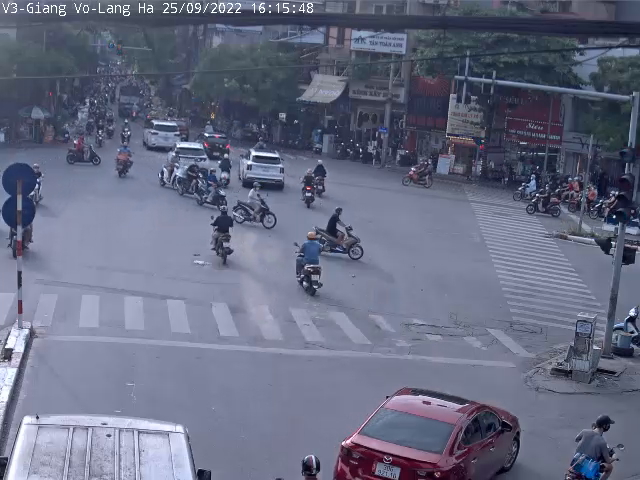người trên xe: (560, 408, 634, 480), (313, 203, 369, 265), (287, 228, 332, 304), (197, 199, 236, 267), (232, 181, 281, 234), (190, 162, 231, 208), (402, 155, 440, 197), (153, 150, 187, 196), (58, 137, 106, 169), (528, 182, 562, 226), (307, 153, 332, 202), (111, 141, 137, 186), (180, 159, 205, 198), (514, 172, 540, 205), (300, 166, 318, 212), (115, 115, 137, 150)
